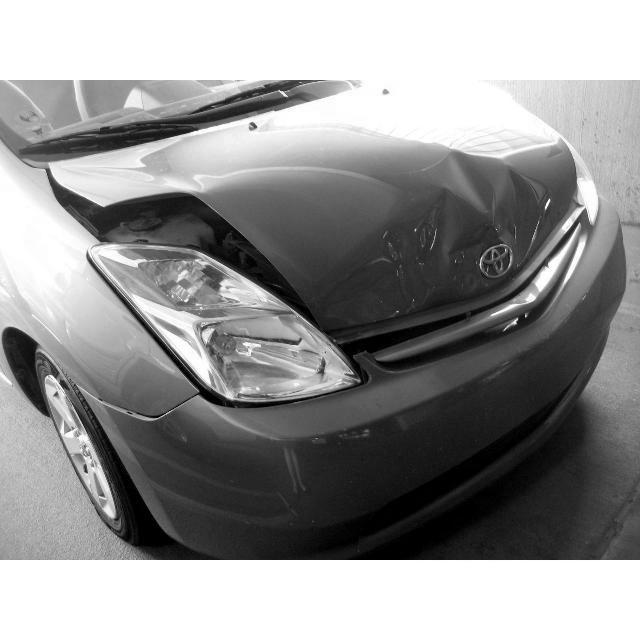bonnet-dent: (111, 89, 614, 269)
